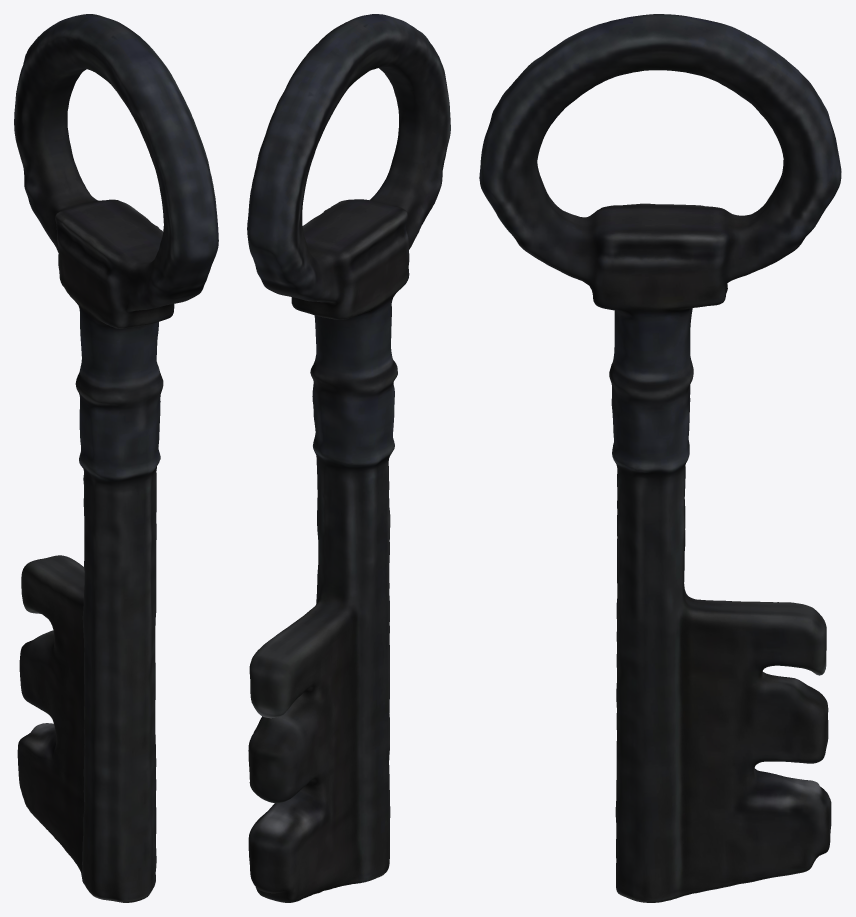
The model's file is 43e1a934bf20_game_asset_key__3d_.fbx.
The picture shows the model from 3 angles, left to right: view 1: azimuth 30°, elevation 25°; view 2: azimuth 150°, elevation 25°; view 3: azimuth 270°, elevation 25°; orthographic projection. The views are drawn at different scales.
Parts seen in each view (by area): view 1: high_poly; view 2: high_poly; view 3: high_poly.
Boxes of the visible parts, x1,y1,x2,y2 form: high_poly: (14, 14, 218, 902); high_poly: (247, 14, 450, 902); high_poly: (479, 14, 841, 902).
Bounding box in the file's own units: 8.83 × 100 × 37.47.
